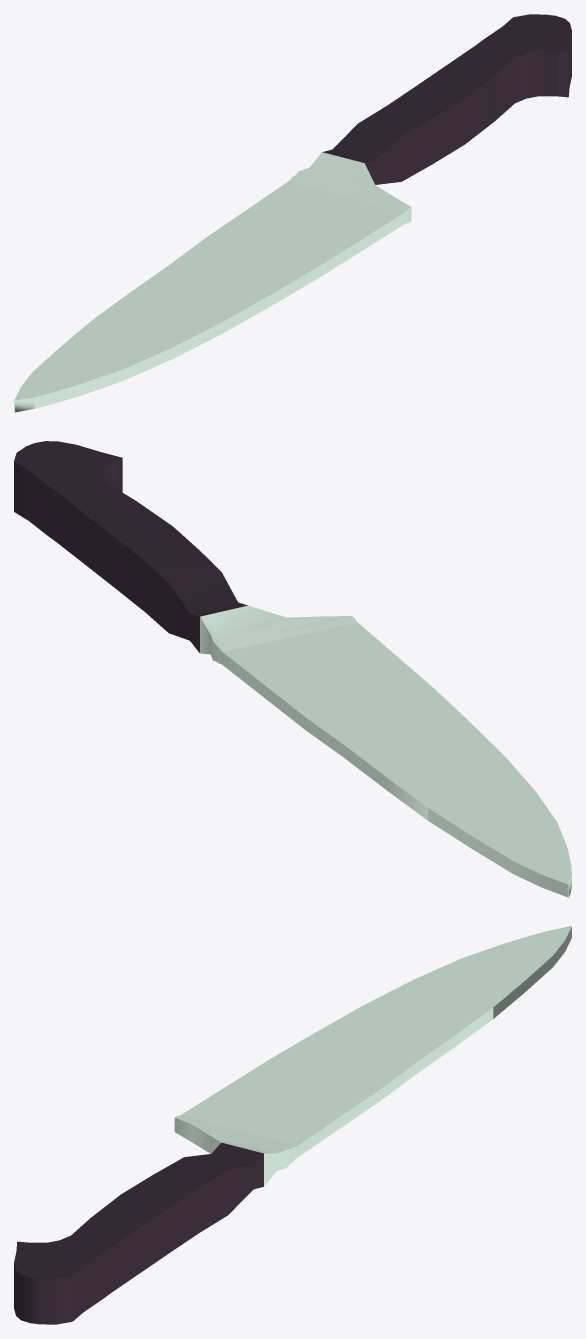
The model's file is knife.gltf.
3 views of the same model, one above another, from view 1: azimuth 90°, elevation 25°; view 2: azimuth 150°, elevation 25°; view 3: azimuth 270°, elevation 25° (orthographic). The views are drawn at different scales.
Parts seen in each view (by area): view 1: Cube.001, Cube.002; view 2: Cube.001, Cube.002; view 3: Cube.001, Cube.002.
Boxes of the visible parts, x1,y1,x2,y2 form: Cube.001: (14, 152, 411, 412); Cube.002: (322, 14, 571, 184); Cube.001: (200, 605, 571, 897); Cube.002: (14, 441, 247, 652); Cube.001: (174, 926, 571, 1186); Cube.002: (14, 1142, 263, 1324).
Size of the model in its own units: 1.68 by 0.0966 by 1.07.
